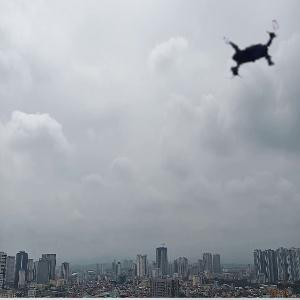drone: (207, 8, 294, 95)
